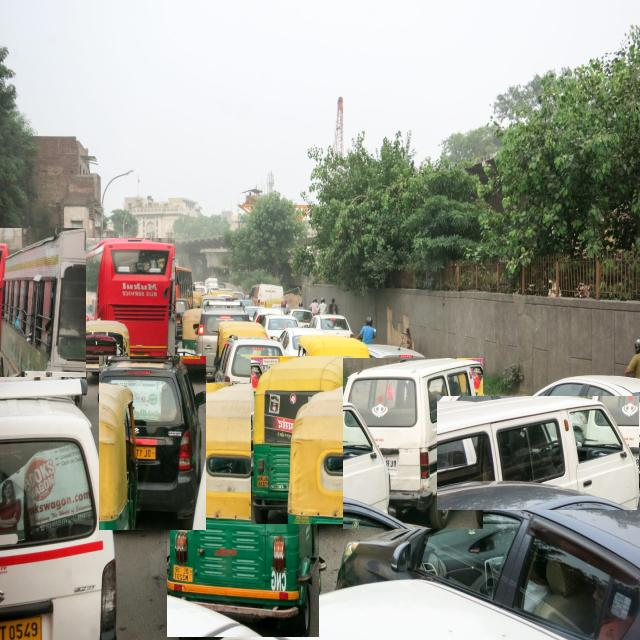autorickshaw: (168, 383, 319, 637), (251, 356, 354, 524)
bus: (78, 238, 175, 372), (0, 228, 86, 377)
car: (336, 483, 640, 638), (344, 359, 483, 529), (438, 396, 639, 510), (99, 356, 206, 530), (196, 308, 249, 376), (214, 337, 281, 383)
